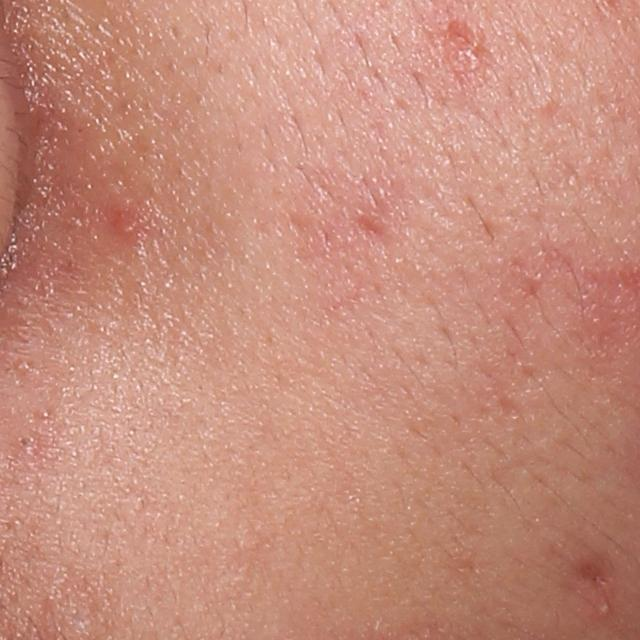comedo: (17, 429, 37, 449)
papule: (443, 24, 489, 70), (107, 205, 147, 242)
